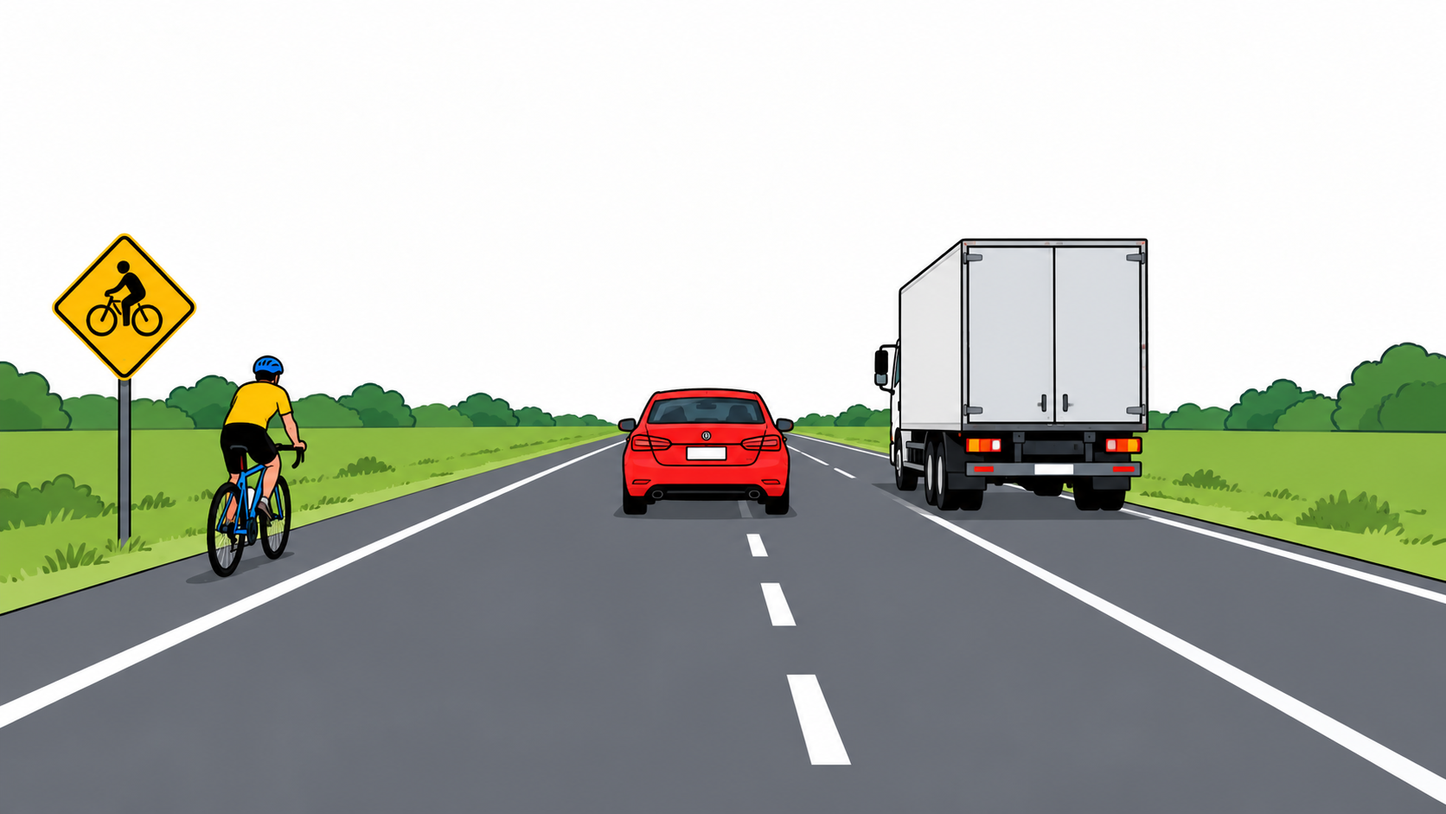bicycle: (205, 441, 292, 578)
car: (617, 388, 794, 517)
person: (219, 356, 307, 478)
truck: (873, 239, 1151, 514)
